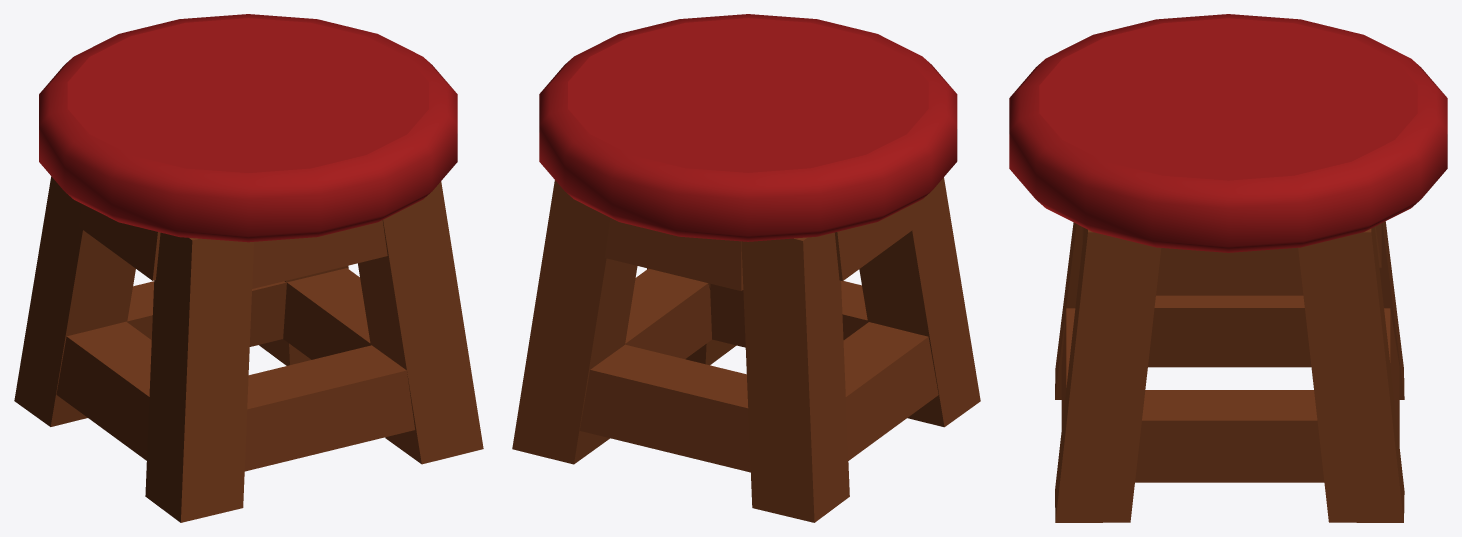
The model's file is Stool.FBX.
3 views of the same model, side by side, from view 1: azimuth 30°, elevation 25°; view 2: azimuth 150°, elevation 25°; view 3: azimuth 270°, elevation 25° (orthographic). The views are drawn at different scales.
Visible parts, largest first — view 1: Cylinder006; view 2: Cylinder006; view 3: Cylinder006.
Boxes of the visible parts, left/top/right/bottom form: Cylinder006: left=14, top=14, right=483, bottom=522; Cylinder006: left=512, top=14, right=980, bottom=522; Cylinder006: left=1009, top=14, right=1447, bottom=522.
Size of the model in its own units: 19.88 by 17.04 by 19.58.
